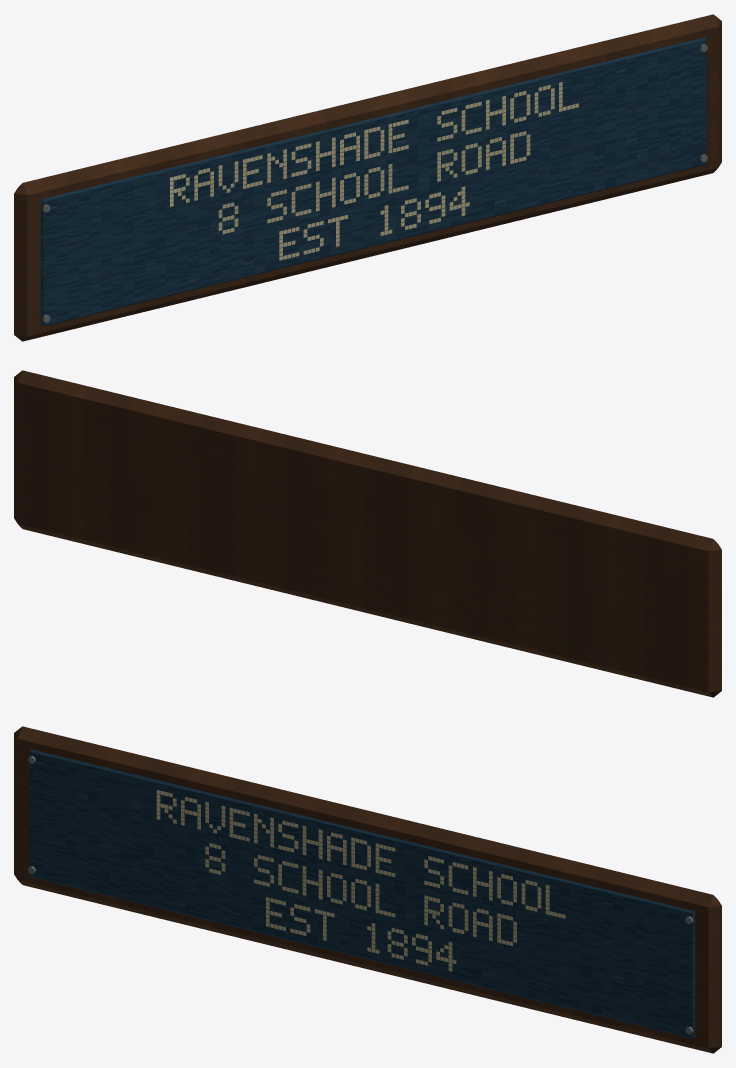
Rendered from level_sign_school.glb.
The picture shows the model from 3 angles, top to bottom: view 1: azimuth 30°, elevation 25°; view 2: azimuth 150°, elevation 25°; view 3: azimuth 330°, elevation 25°; orthographic projection.
Parts seen in each view (by area): view 1: level_sign_school; view 2: level_sign_school; view 3: level_sign_school.
Boxes of the visible parts, x1=… form: level_sign_school: x1=14, y1=14, x2=721, y2=341; level_sign_school: x1=14, y1=370, x2=721, y2=697; level_sign_school: x1=14, y1=726, x2=721, y2=1053.
Size of the model in its own units: 1.68 by 0.36 by 0.053.
Materials: 4 (4 with a texture image).
